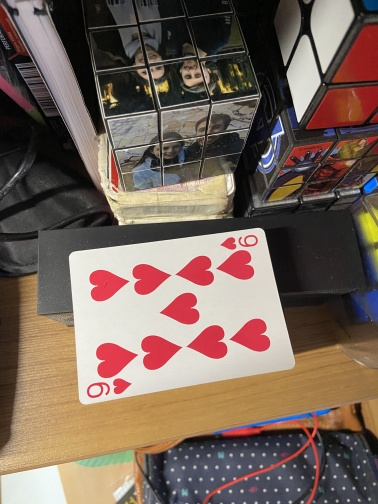nine: (67, 226, 297, 407)
